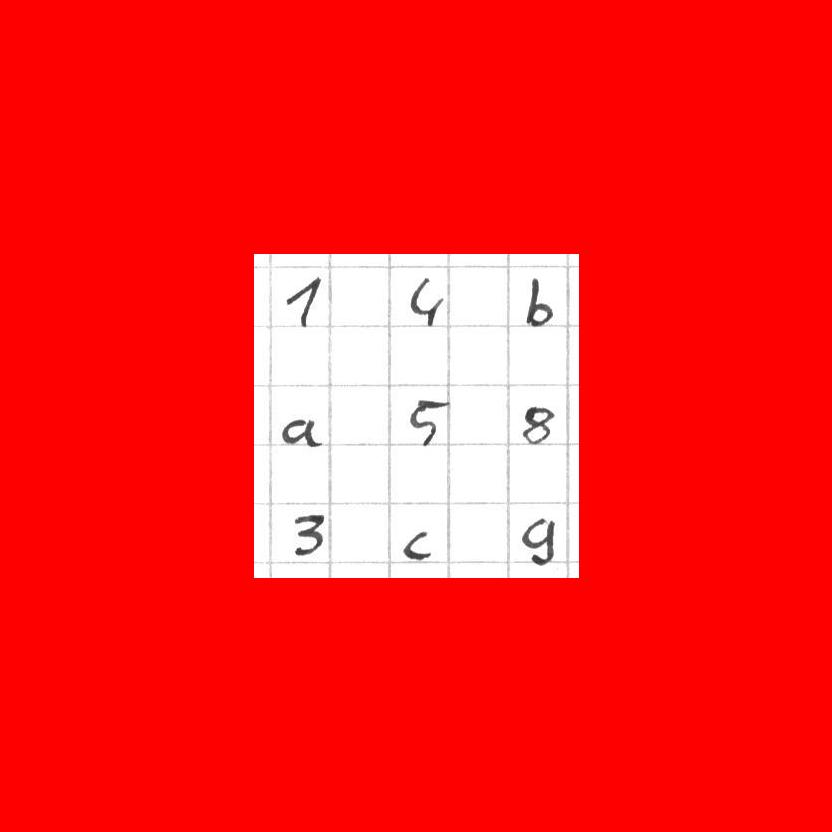Char: (274, 263, 333, 335), (512, 512, 559, 571), (404, 271, 449, 332), (406, 393, 456, 447), (517, 268, 555, 329), (287, 505, 329, 559), (519, 401, 555, 451), (278, 414, 322, 450), (398, 524, 432, 565)
